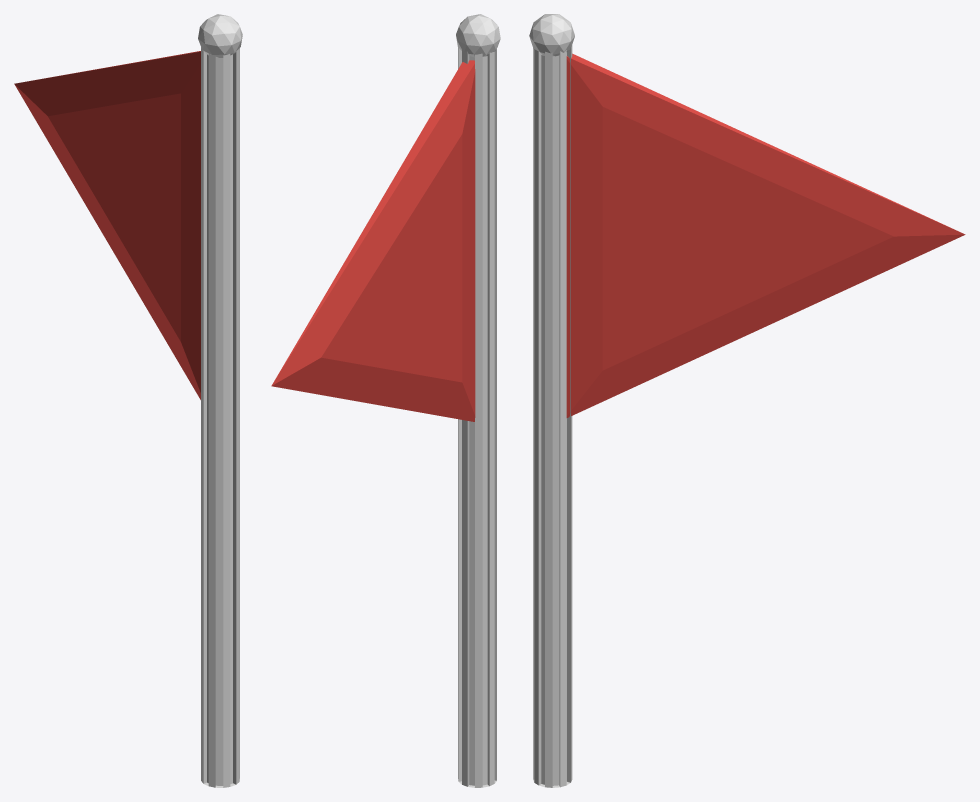
Rendered from Flag.fbx.
3 renders of one model, left to right at view 1: azimuth 30°, elevation 25°; view 2: azimuth 150°, elevation 25°; view 3: azimuth 270°, elevation 25°, orthographic.
Parts seen in each view (by area): view 1: Cube, Cylinder, Icosphere; view 2: Cube, Cylinder, Icosphere; view 3: Cube, Cylinder, Icosphere.
Boxes of the visible parts, box(x1,y1,x2,y2) form: Cube: box(14, 51, 200, 399); Cylinder: box(201, 47, 239, 787); Icosphere: box(198, 14, 242, 57); Cube: box(271, 60, 475, 421); Cylinder: box(458, 47, 496, 787); Icosphere: box(456, 14, 500, 57); Cube: box(566, 53, 965, 417); Cylinder: box(533, 45, 572, 787); Icosphere: box(529, 14, 574, 56).
Size of the model in its own units: 4.44 by 85.55 by 44.29.
